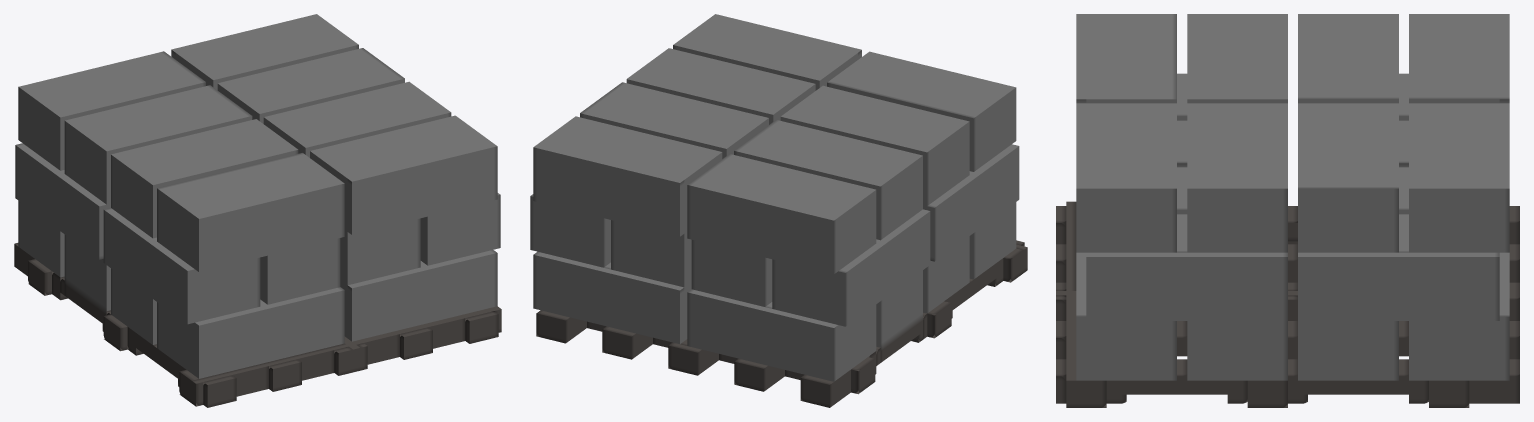
Rendered from cegielki.dae.
3 renders of one model, left to right at view 1: azimuth 30°, elevation 25°; view 2: azimuth 150°, elevation 25°; view 3: azimuth 270°, elevation 25°, orthographic. The views are drawn at different scales.
Visible parts, largest first — view 1: Content; view 2: Content; view 3: Content.
Part boxes in pixels (x1,y1,x2,y2): Content: (14, 14, 501, 407); Content: (530, 14, 1027, 407); Content: (1056, 14, 1519, 407).
Size of the model in its own units: 43 by 24 by 46.
Materials: 1 (1 with a texture image).
